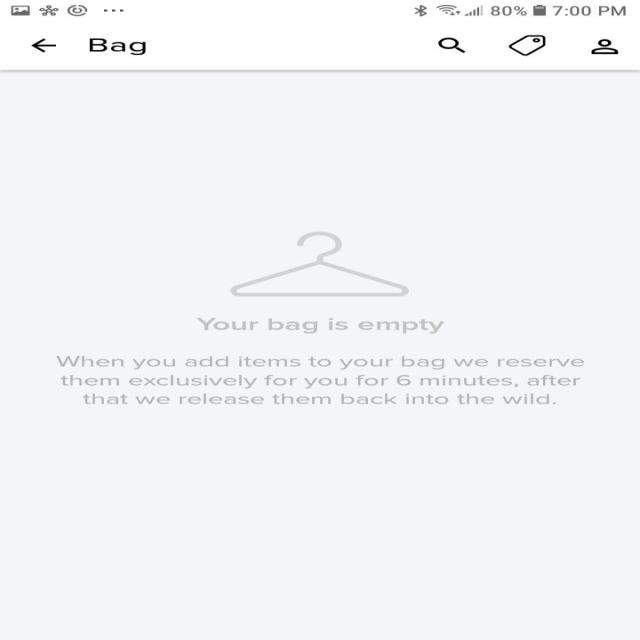Icon: (506, 35, 546, 56), (589, 38, 618, 55), (438, 38, 466, 53), (31, 38, 57, 53)
Image: (229, 230, 409, 297)
Text: (56, 355, 585, 404), (196, 317, 444, 334), (89, 38, 146, 55)
